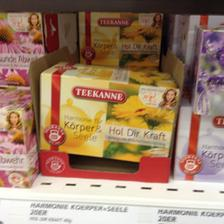Tee: (38, 58, 178, 162), (76, 8, 162, 64)
